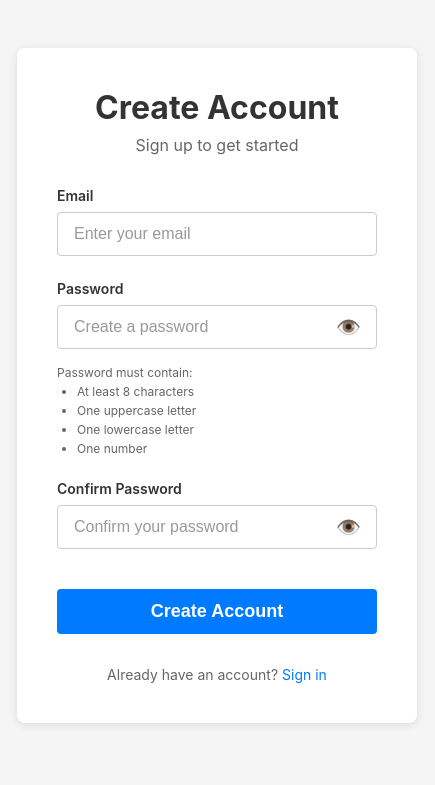
Test: Register Component › validates password strength requirements
Type "weak" into the password field labelled "Password". click: (217, 326)
box: [57,304,377,348]
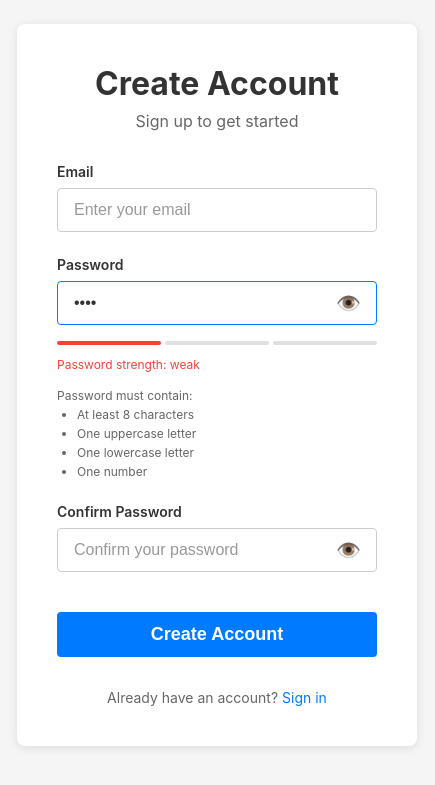
Click the button "Create Account". click: (217, 634)
box: [57,612,377,657]
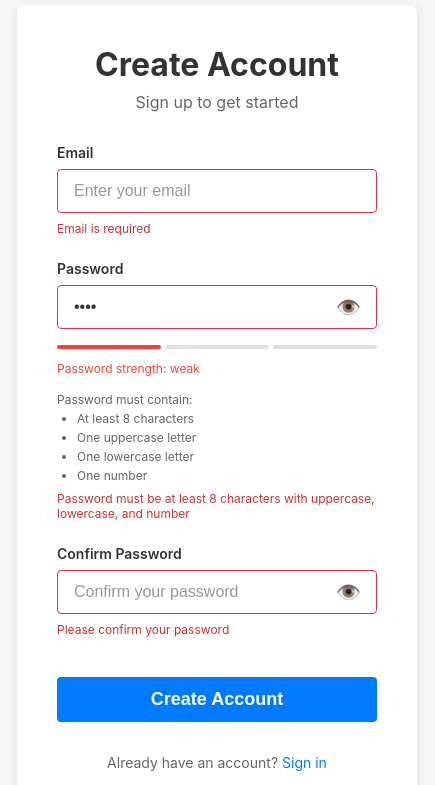
Expected: the text "Password must be at least 8 characters" is shown, [57,491,375,521]
